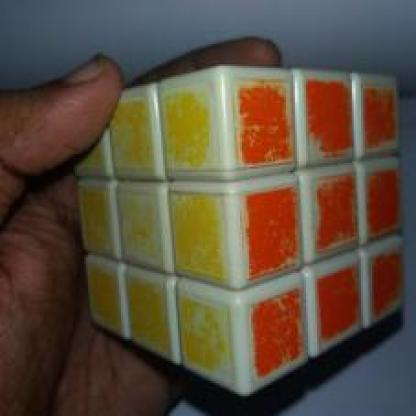cube: (70, 41, 412, 376)
